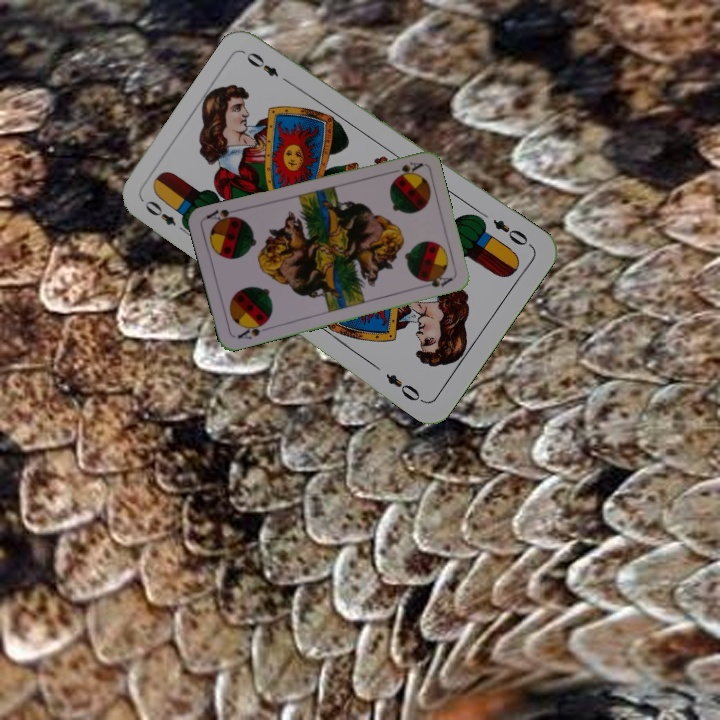EO: (140, 196, 192, 238), (488, 215, 531, 249)
SA: (233, 317, 270, 342), (384, 158, 425, 179)
